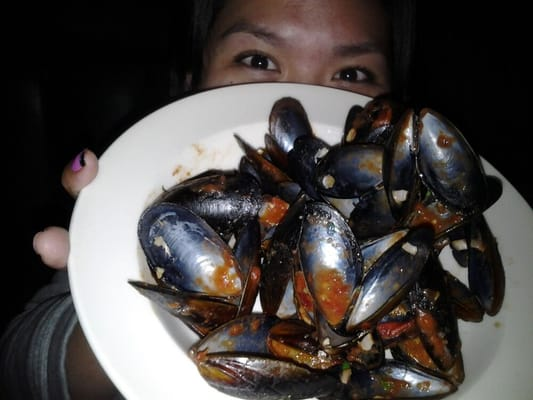pizza: (0, 145, 128, 400), (190, 0, 400, 98)
